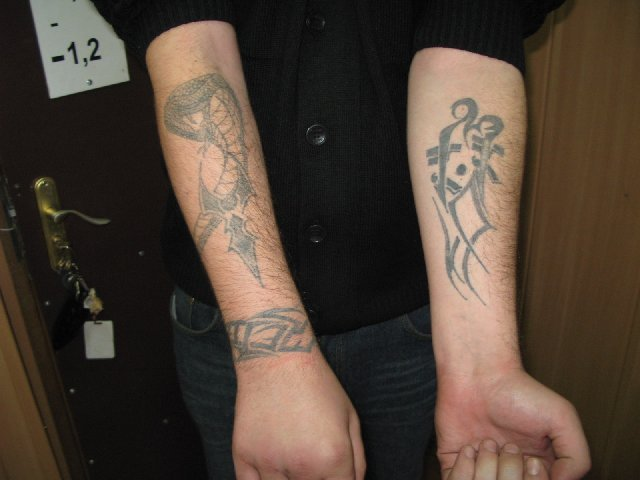tatu7_zmeya: (152, 64, 268, 246)
